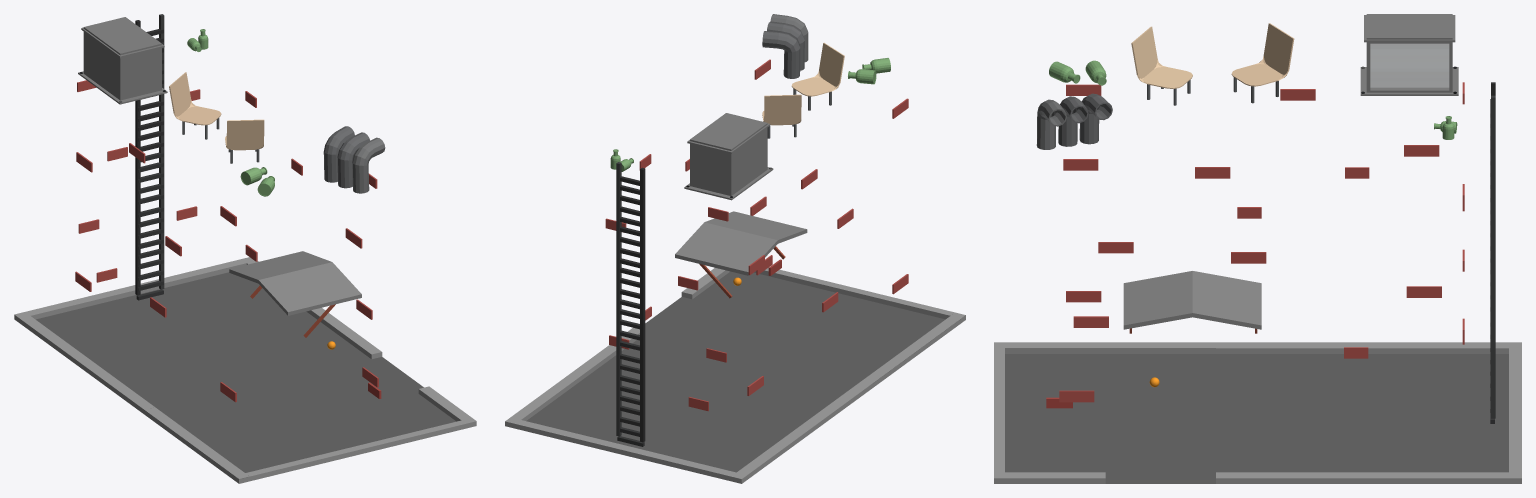
Rendered from house_100.fbx.
The picture shows the model from 3 angles, left to right: view 1: azimuth 30°, elevation 25°; view 2: azimuth 150°, elevation 25°; view 3: azimuth 270°, elevation 25°; orthographic projection. The views are drawn at different scales.
Visible parts, largest first — view 1: Plane.040, Cube.255, Plane.039, Plane.026, Plane.016, Cube.254, Plane.041, Cube.253, Plane.038, Plane.037; view 2: Plane.040, Cube.255, Plane.039, Cube.253, Cube.254, Plane.016, Plane.026, Plane.037, Plane.038, Plane.041; view 3: Plane.040, Plane.039, Cube.255, Plane.026, Plane.016, Cube.254, Plane.041, Plane.037, Plane.038.
Boxes of the visible parts, <box> form: Plane.040: <box>14,257,476,483</box>; Cube.255: <box>78,17,167,104</box>; Plane.039: <box>229,251,361,315</box>; Plane.026: <box>169,72,221,125</box>; Plane.016: <box>225,119,264,150</box>; Cube.254: <box>159,14,164,289</box>; Plane.041: <box>352,137,385,193</box>; Cube.253: <box>135,20,140,295</box>; Plane.038: <box>337,132,369,188</box>; Plane.037: <box>323,126,354,182</box>; Plane.040: <box>505,267,965,483</box>; Cube.255: <box>684,113,773,200</box>; Plane.039: <box>675,211,807,275</box>; Cube.253: <box>640,167,645,442</box>; Cube.254: <box>616,162,621,436</box>; Plane.016: <box>791,42,844,96</box>; Plane.026: <box>762,94,801,125</box>; Plane.037: <box>762,31,800,78</box>; Plane.038: <box>767,22,804,70</box>; Plane.041: <box>770,14,808,62</box>; Plane.040: <box>994,342,1521,483</box>; Plane.039: <box>1123,271,1261,329</box>; Cube.255: <box>1360,14,1458,95</box>; Plane.026: <box>1231,23,1294,86</box>; Plane.016: <box>1131,26,1192,88</box>; Cube.254: <box>1491,95,1495,418</box>; Plane.041: <box>1036,99,1066,149</box>; Plane.037: <box>1079,93,1112,144</box>; Plane.038: <box>1058,96,1088,146</box>.
Bounding box in the file's own units: 340 × 416 × 557.
